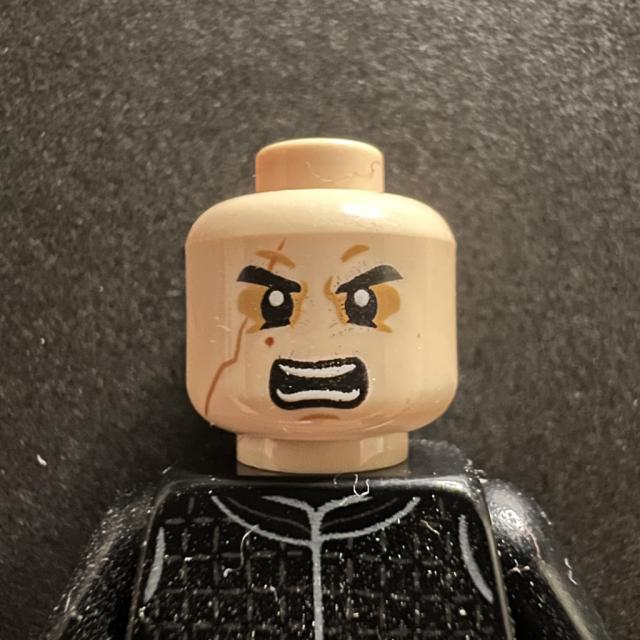alien: (175, 110, 450, 457)
